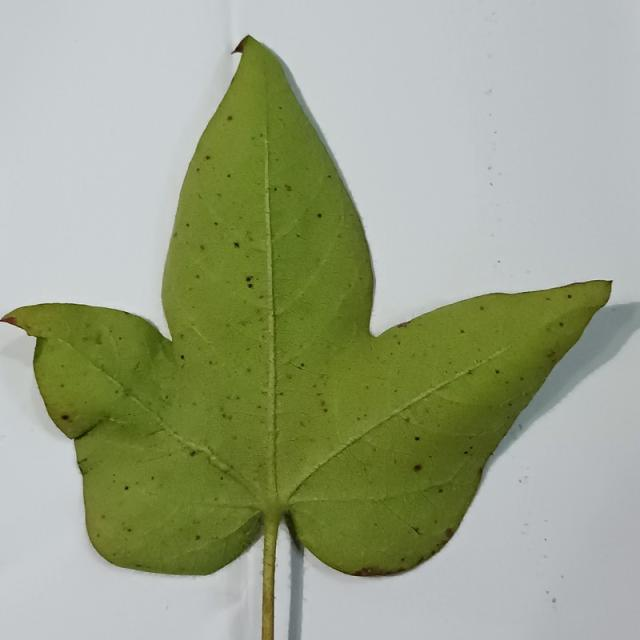Bacterial_Blight: (349, 563, 416, 578), (237, 271, 264, 294), (231, 38, 246, 54), (0, 315, 19, 327), (412, 461, 424, 476), (445, 529, 454, 539), (396, 322, 409, 328), (362, 568, 373, 575), (60, 414, 70, 421), (319, 399, 326, 408), (547, 352, 556, 358), (189, 450, 196, 457), (221, 412, 228, 419), (226, 115, 233, 121), (233, 242, 240, 248), (479, 305, 485, 311), (246, 276, 252, 282), (285, 185, 291, 191), (459, 328, 466, 333), (195, 534, 200, 541), (414, 436, 420, 441), (558, 322, 564, 327), (438, 488, 444, 493), (180, 354, 185, 360), (200, 245, 205, 251), (205, 155, 211, 160), (173, 231, 178, 237), (278, 391, 284, 396), (467, 370, 473, 375), (300, 363, 305, 368), (567, 294, 572, 299), (317, 213, 322, 218), (124, 486, 129, 491), (495, 369, 500, 374), (127, 528, 132, 533), (195, 274, 200, 279), (101, 514, 106, 519), (322, 408, 328, 412), (546, 297, 551, 301), (214, 221, 218, 226), (227, 173, 231, 178), (397, 340, 401, 345), (273, 186, 277, 191), (196, 167, 200, 172), (464, 451, 468, 455), (186, 223, 190, 227), (327, 175, 331, 179)
Cotton: (2, 37, 610, 639)
